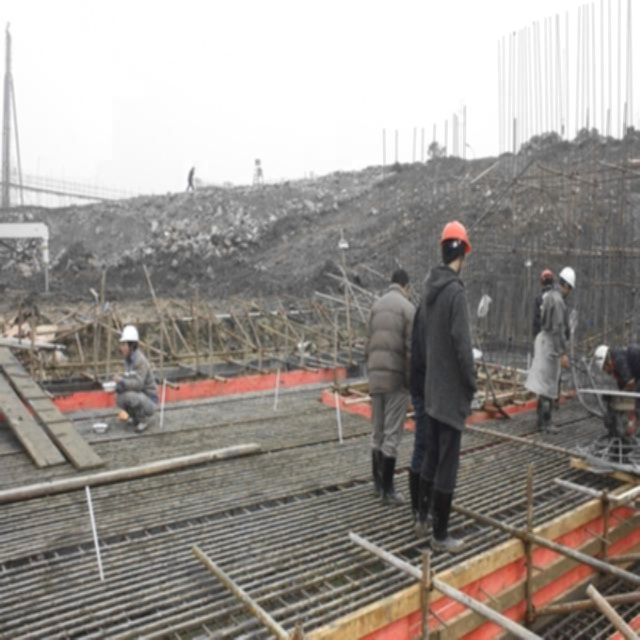Con_Casco: (440, 221, 472, 270)
Sin_Chaleco: (367, 287, 413, 388)
